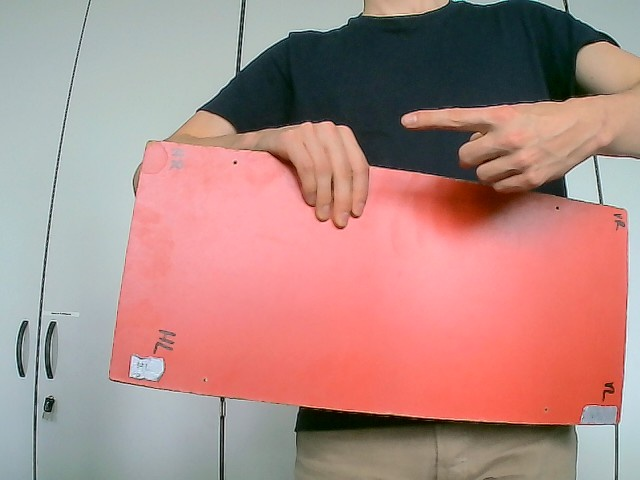no_gesture: (243, 119, 375, 228)
right: (399, 93, 612, 195)
